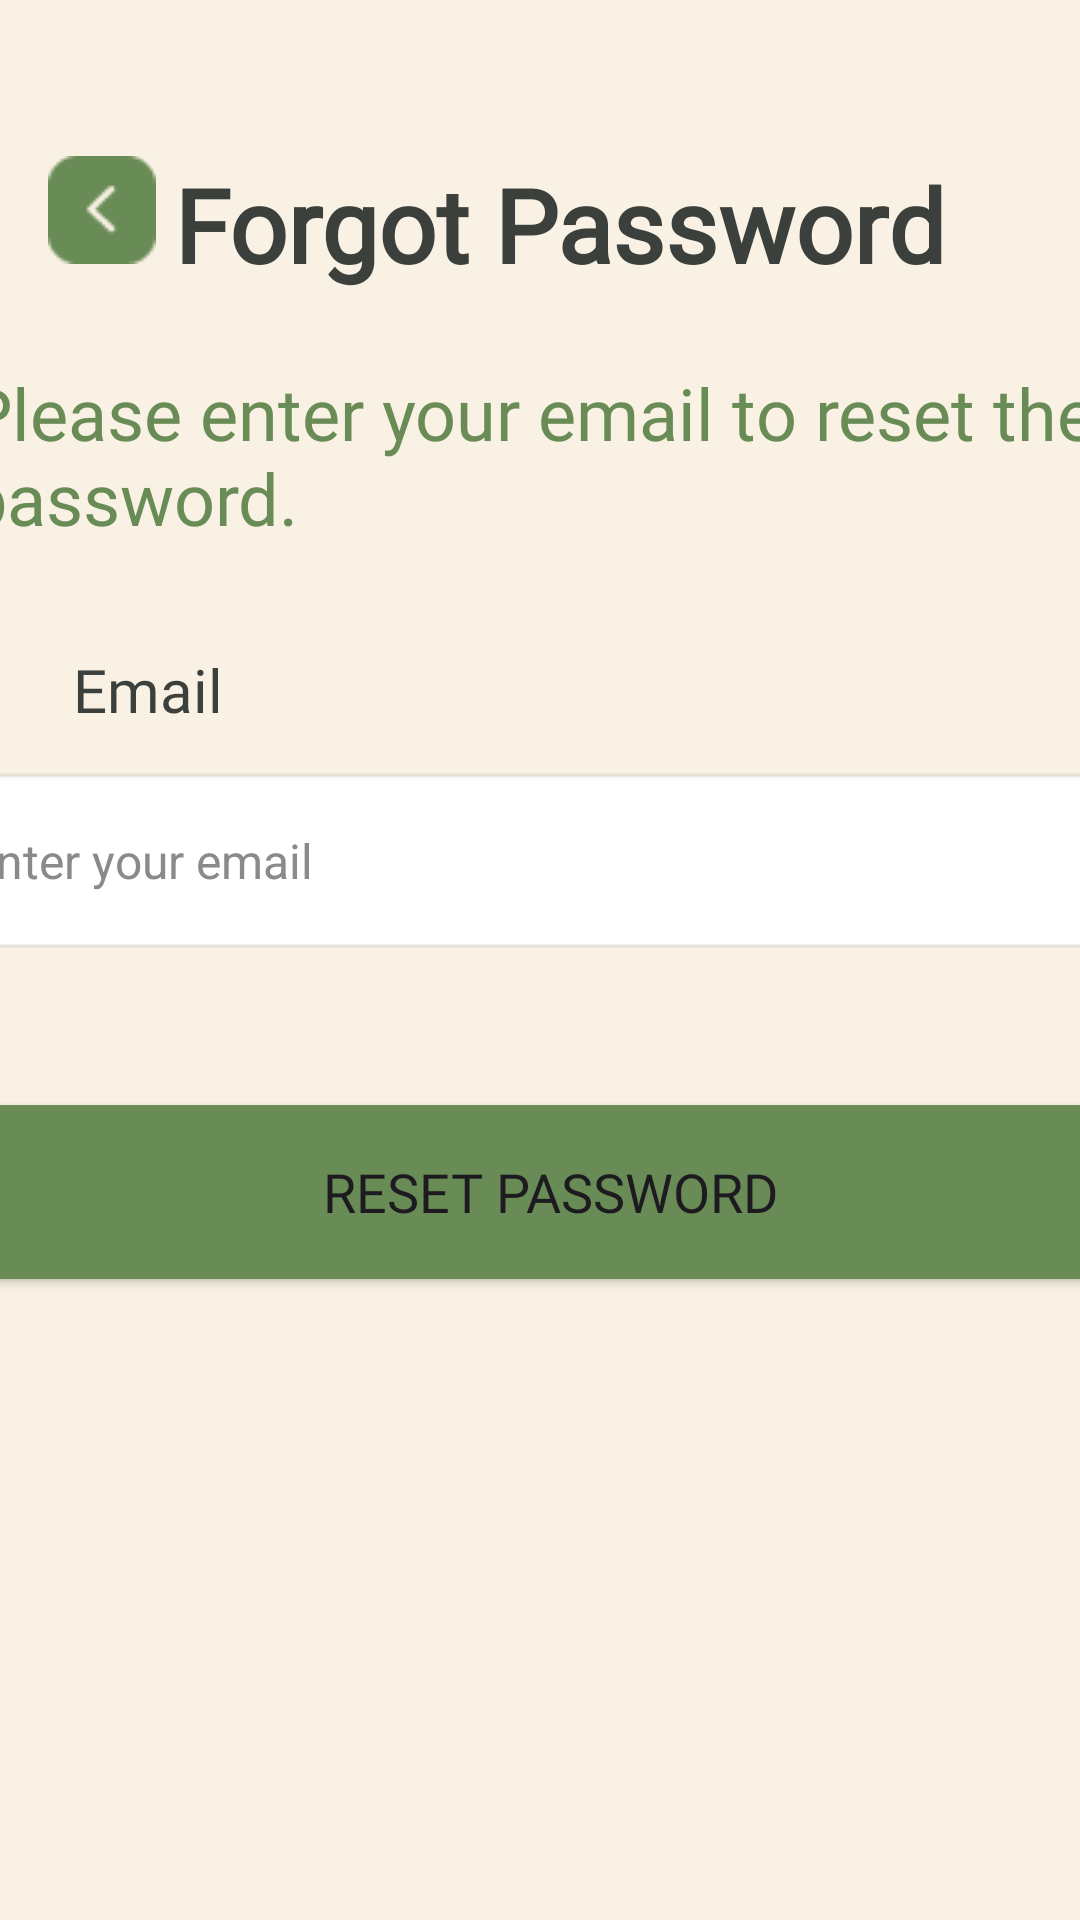

Locate icon controls on the screen. Image size 1080x1920, boxes as (x1, y1, x2, y2).
Back Button: (48, 156, 156, 264)
